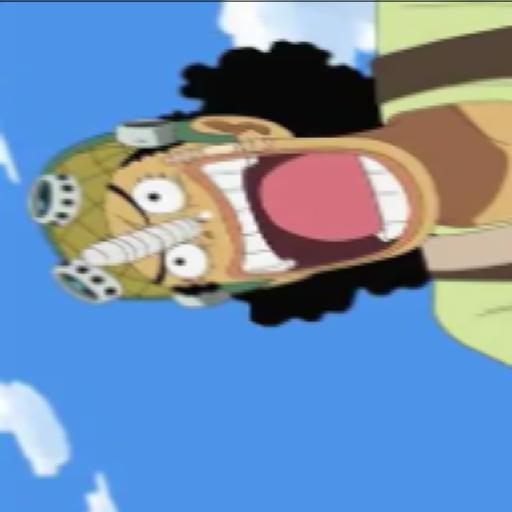Usopp: (19, 2, 512, 360)
